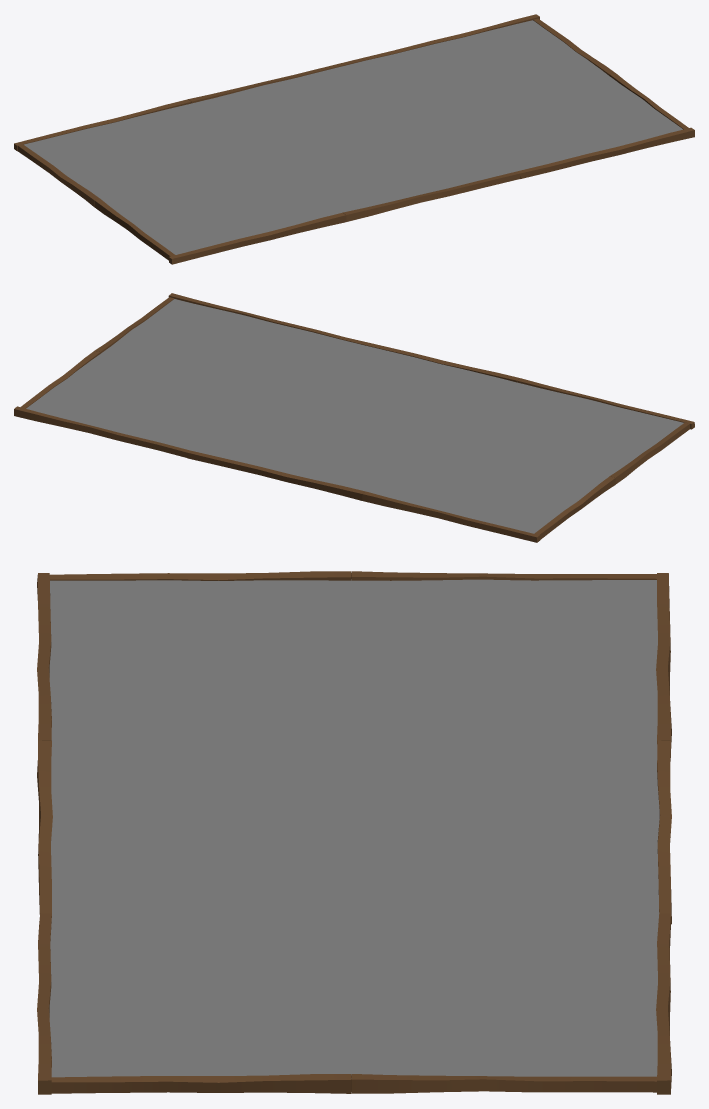
File: SM_street.fbx
The picture shows the model from 3 angles, top to bottom: view 1: azimuth 30°, elevation 25°; view 2: azimuth 150°, elevation 25°; view 3: azimuth 270°, elevation 25°; orthographic projection. The views are drawn at different scales.
Parts seen in each view (by area): view 1: Object32708; view 2: Object32708; view 3: Object32708.
Boxes of the visible parts, <box> form: Object32708: <box>14,14,694,264</box>; Object32708: <box>14,293,694,542</box>; Object32708: <box>37,571,671,1094</box>.
Bounding box in the file's own units: 910 × 11.73 × 479.
